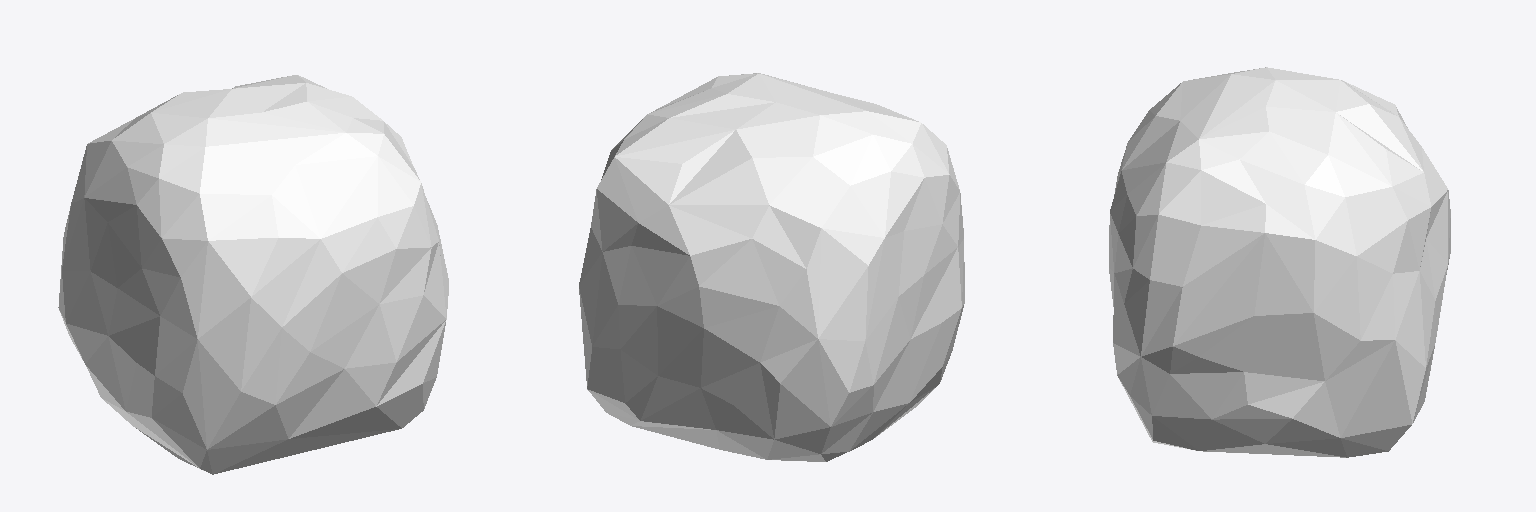
File: Cave.obj
3 renders of one model, left to right at view 1: azimuth 30°, elevation 25°; view 2: azimuth 150°, elevation 25°; view 3: azimuth 270°, elevation 25°, orthographic.
Parts seen in each view (by area): view 1: Cube; view 2: Cube; view 3: Cube.
Part boxes in pixels (x1,y1,x2,y2): Cube: (58, 75, 448, 474); Cube: (579, 73, 964, 461); Cube: (1109, 67, 1450, 457).
Bounding box in the file's own units: 1426 × 1394 × 1430.